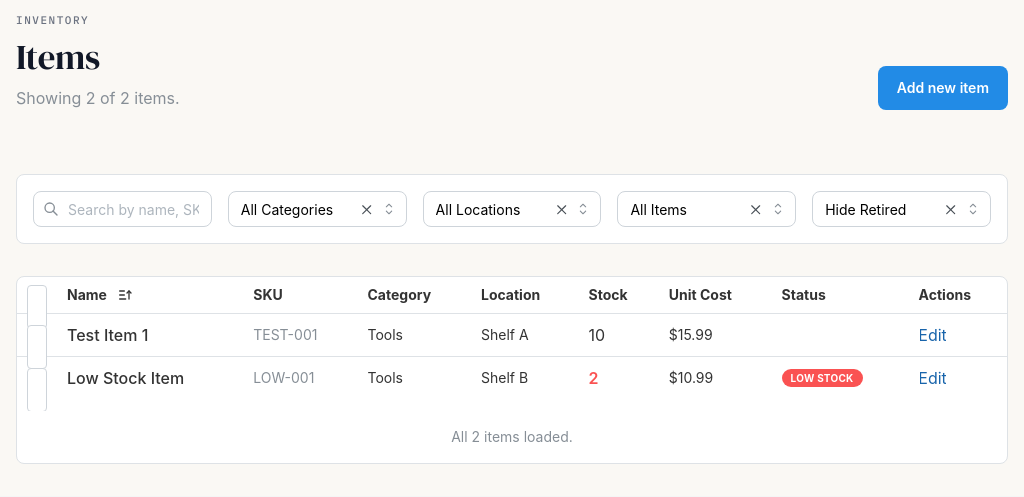
it: InventoryListPage › updates stock inline and patches the row in place
Expected: the text "Test Item 1" is shown, [67,325,148,345]
Click the first item's stock value to open the inline editor.
Click the text "10".
click(597, 335)  # box [588,325,605,345]
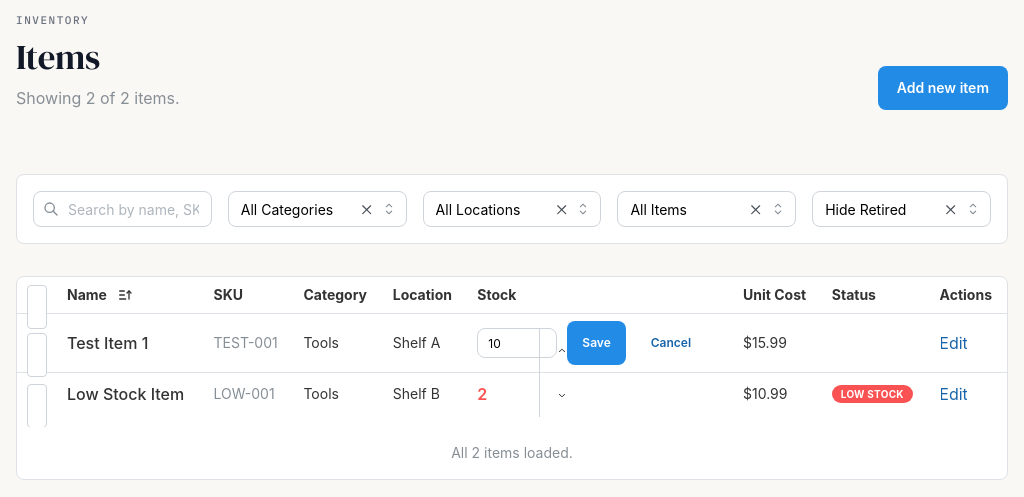
Expected: the button "Save" is shown, [582,335,611,350]
Replace the text in the field showing "10" with "15" at (517, 343), box [477,328,557,358]
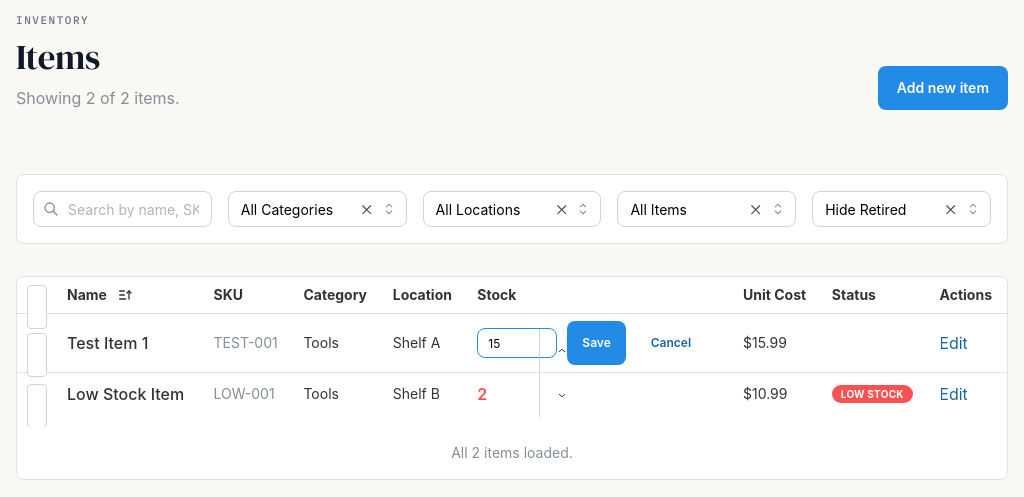
Click the button "Save".
click(596, 343)  # box [567,321,626,365]
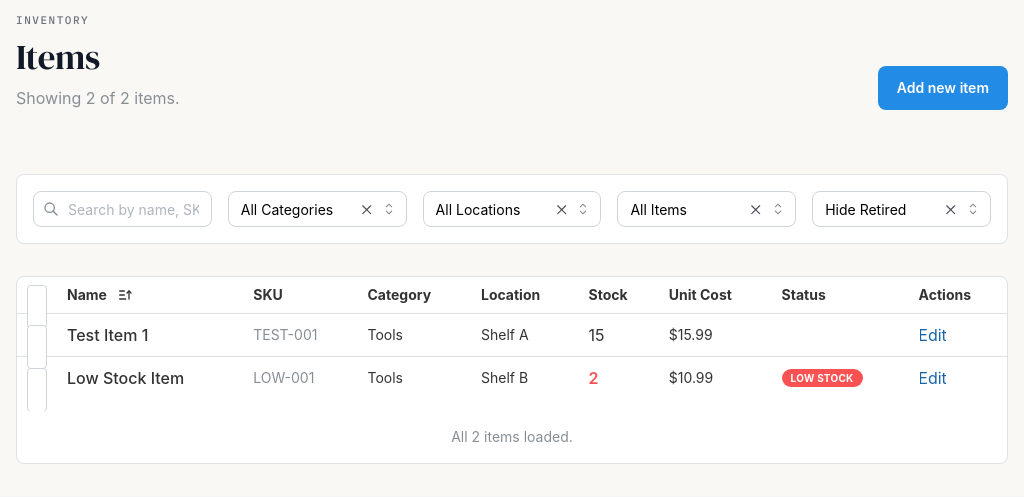
Expected: the text "15" is shown, [588,325,604,345]
